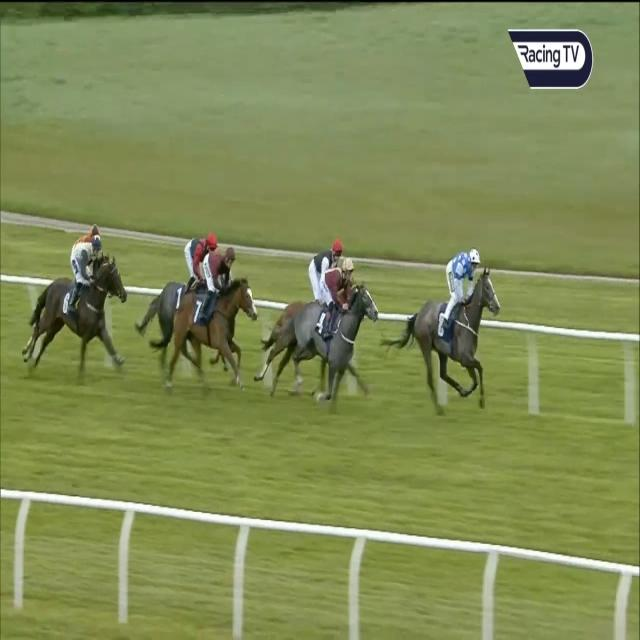horses-racing: (264, 256, 384, 412), (405, 248, 514, 415), (21, 235, 134, 376), (163, 247, 258, 391), (145, 229, 224, 328), (294, 228, 343, 306), (65, 220, 111, 257)
